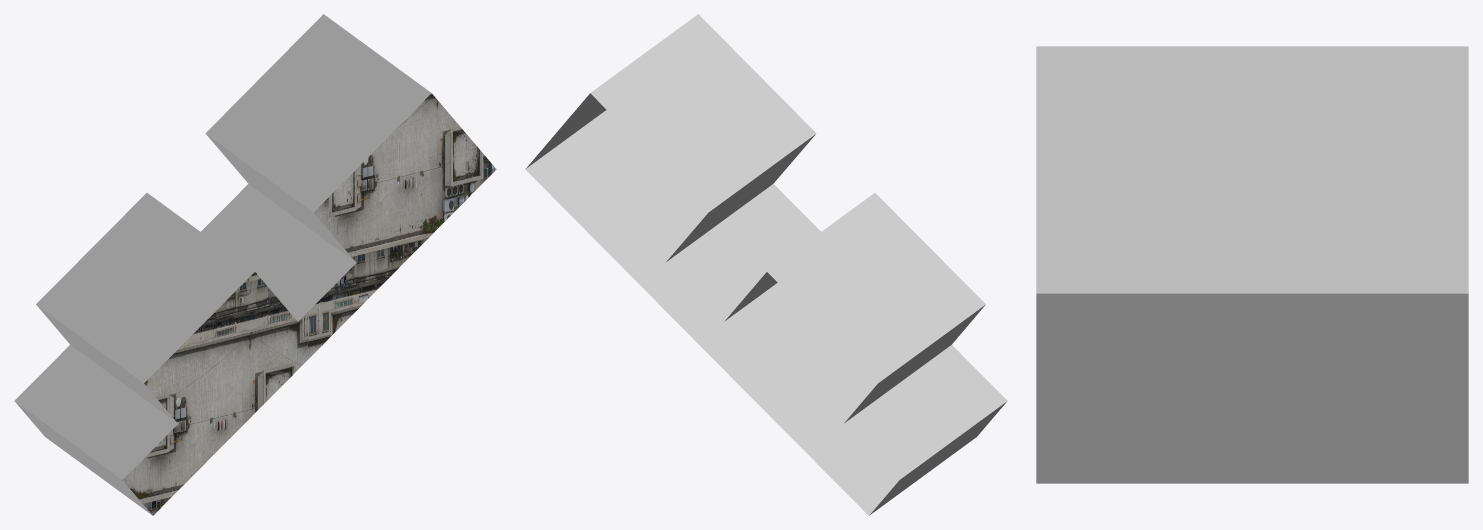
Rendered from geospecific_1294.obj.
The picture shows the model from 3 angles, left to right: view 1: azimuth 30°, elevation 25°; view 2: azimuth 150°, elevation 25°; view 3: azimuth 270°, elevation 25°; orthographic projection. The views are drawn at different scales.
Parts seen in each view (by area): view 1: Building; view 2: Building; view 3: Building.
Part boxes in pixels (x1,y1,x2,y2): Building: (14, 14, 496, 515); Building: (525, 14, 1007, 515); Building: (1036, 46, 1468, 483).
Bounding box in the file's own units: 17.99 × 16.29 × 9.
